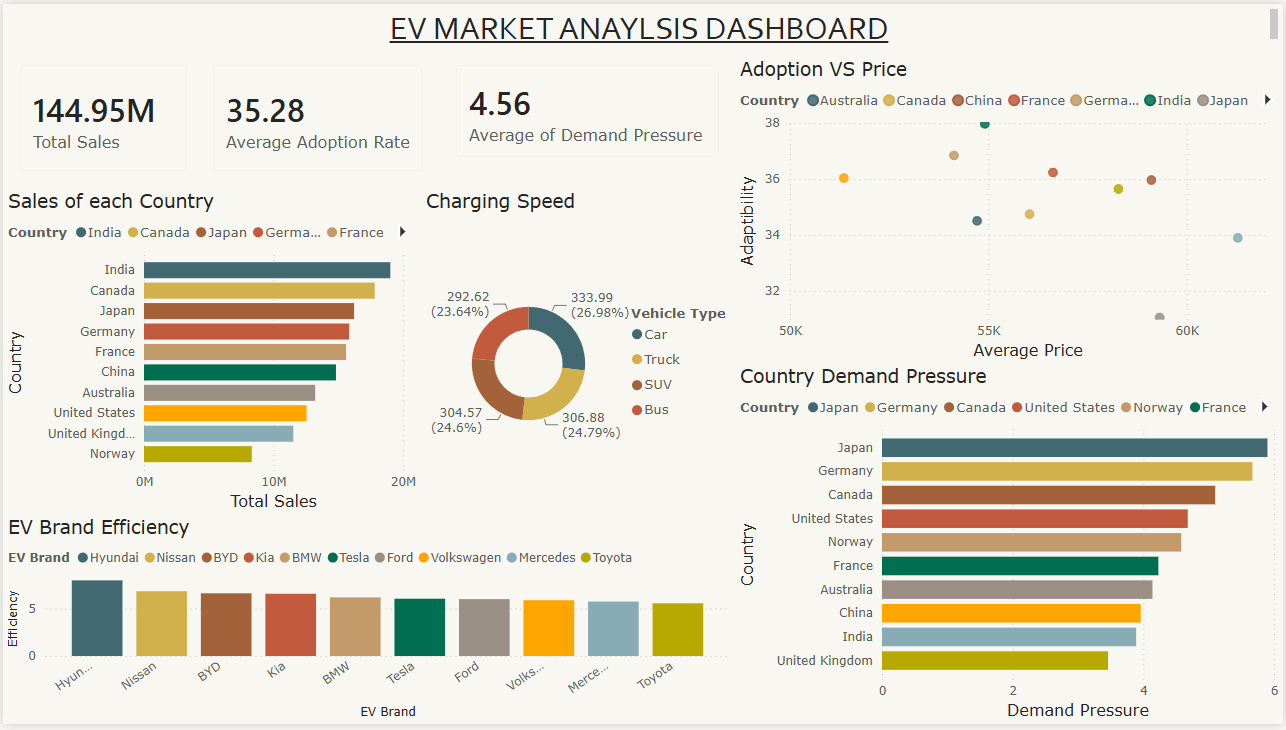

Layout of this report page (visuals, bound fields, positions):
{"tool":"powerbi","page":{"name":"Page 1","canvas":[1280,720],"ordinal":0},"visuals":[{"type":"barChart","title":"Sales of each Country","fields":{"Category":["mydb top_country_sales.country"],"Y":["Sum(mydb top_country_sales.total_sales)"],"Series":["mydb top_country_sales.country"]},"box":[0,184.5,418,326.7],"z":0},{"type":"textbox","box":[0,0,1280,44.4],"z":1000},{"type":"scatterChart","title":"Adoption VS Price","fields":{"Y":["Sum(mydb price_vs_adoption.adoption_rate)"],"X":["mydb price_vs_adoption.avg_price"],"Series":["mydb price_vs_adoption.country"]},"box":[732.3,52.9,547.7,307.5],"z":2000},{"type":"cardVisual","fields":{"Data":["Sum(mydb top_country_sales.total_sales)"]},"box":[0,44.4,200.9,139.8],"z":3000},{"type":"columnChart","title":"EV Brand Efficiency","fields":{"Y":["Sum(mydb brand_efficiency.efficiency)"],"Category":["mydb brand_efficiency.ev_brand"],"Series":["mydb brand_efficiency.ev_brand"]},"box":[0,511.2,732.3,208.5],"z":4000},{"type":"donutChart","title":"Charging Speed","fields":{"Y":["Avg(mydb charging_speed_view.charging_speed)"],"Category":["mydb charging_speed_view.vehicle_type"]},"box":[418,184.5,314.2,326.7],"z":5000},{"type":"barChart","title":"Country Demand Pressure","fields":{"Category":["mydb demand_pressure_view.country"],"Y":["Sum(mydb demand_pressure_view.demand_pressure)"],"Series":["mydb demand_pressure_view.country"]},"box":[732.3,360.4,547.7,359.4],"z":6000},{"type":"cardVisual","fields":{"Data":["Avg(mydb demand_pressure_view.demand_pressure)"]},"box":[436.2,44.4,296.4,125.6],"z":7000},{"type":"cardVisual","fields":{"Data":["Avg(mydb price_vs_adoption.adoption_rate)"]},"box":[193.4,44.4,242.8,139.8],"z":8000}]}

Visuals, with their boxes in screenshot pixels (x1, y1, x2, y2), scaled from the page's 1280x720 canvas onto the 1286x730 screenshot:
"Sales of each Country" barChart: 0/187/420/518
textbox: 0/0/1285/45
"Adoption VS Price" scatterChart: 736/54/1285/365
cardVisual - Sum(mydb top_country_sales.total_sales): 0/45/202/187
"EV Brand Efficiency" columnChart: 0/518/736/729
"Charging Speed" donutChart: 420/187/736/518
"Country Demand Pressure" barChart: 736/365/1285/729
cardVisual - Avg(mydb demand_pressure_view.demand_pressure): 438/45/736/172
cardVisual - Avg(mydb price_vs_adoption.adoption_rate): 194/45/438/187
